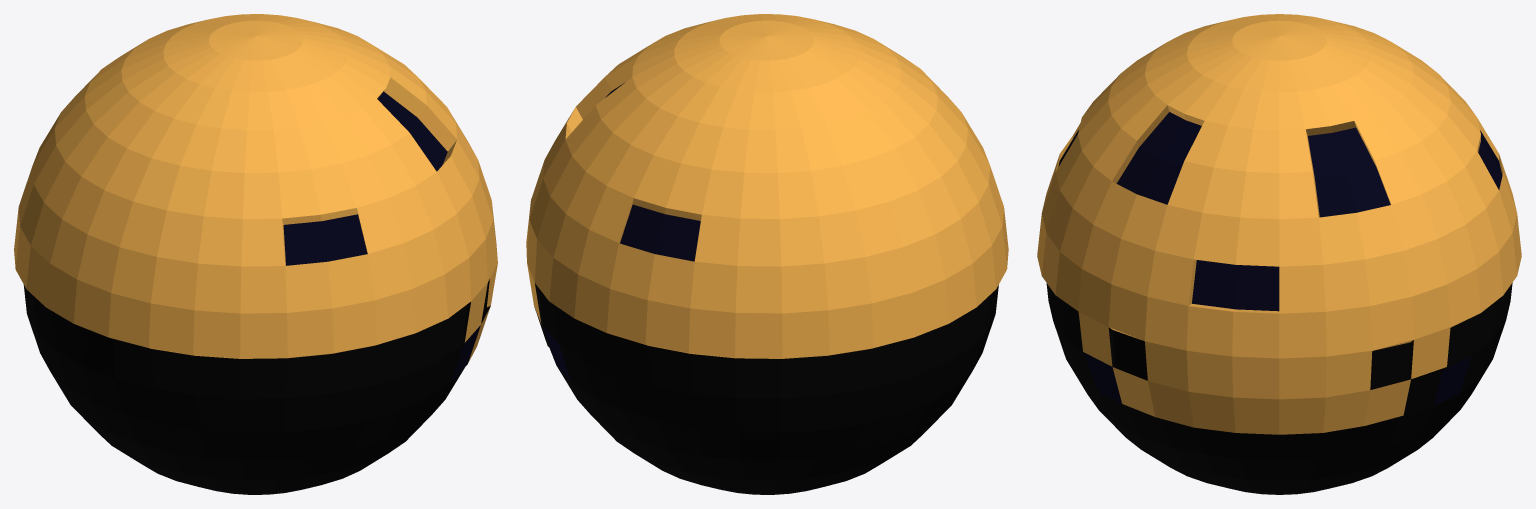
File: Ball.glb
3 views of the same model, side by side, from view 1: azimuth 30°, elevation 25°; view 2: azimuth 150°, elevation 25°; view 3: azimuth 270°, elevation 25° (orthographic).
Parts seen in each view (by area): view 1: Sphere; view 2: Sphere; view 3: Sphere.
Part boxes in pixels (x1,y1,x2,y2): Sphere: [14, 14, 497, 494]; Sphere: [526, 14, 1008, 494]; Sphere: [1037, 14, 1521, 494].
Size of the model in its own units: 5.73 by 5.7 by 5.73.
1 material, 1 textured.
